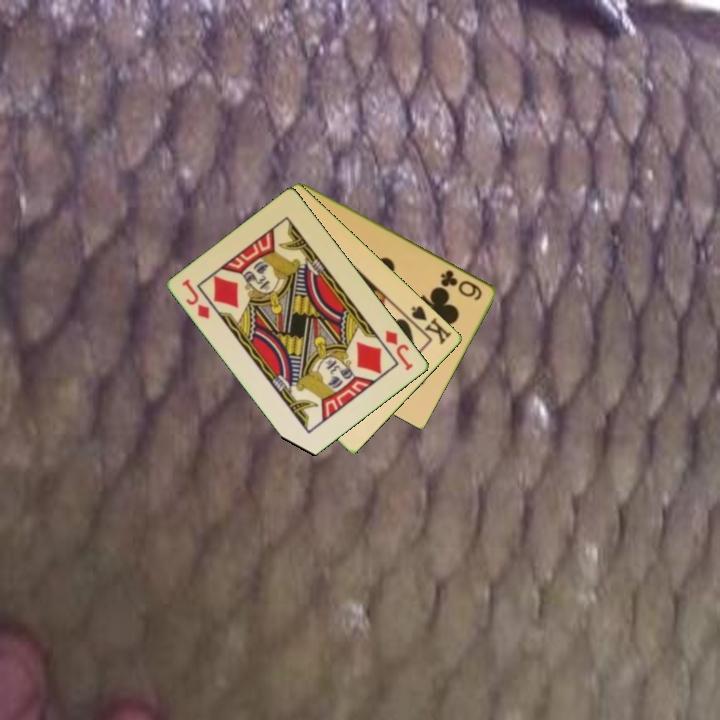6c: (437, 266, 485, 303)
Jd: (178, 275, 213, 322), (382, 326, 416, 373)
Ks: (402, 302, 455, 348)
